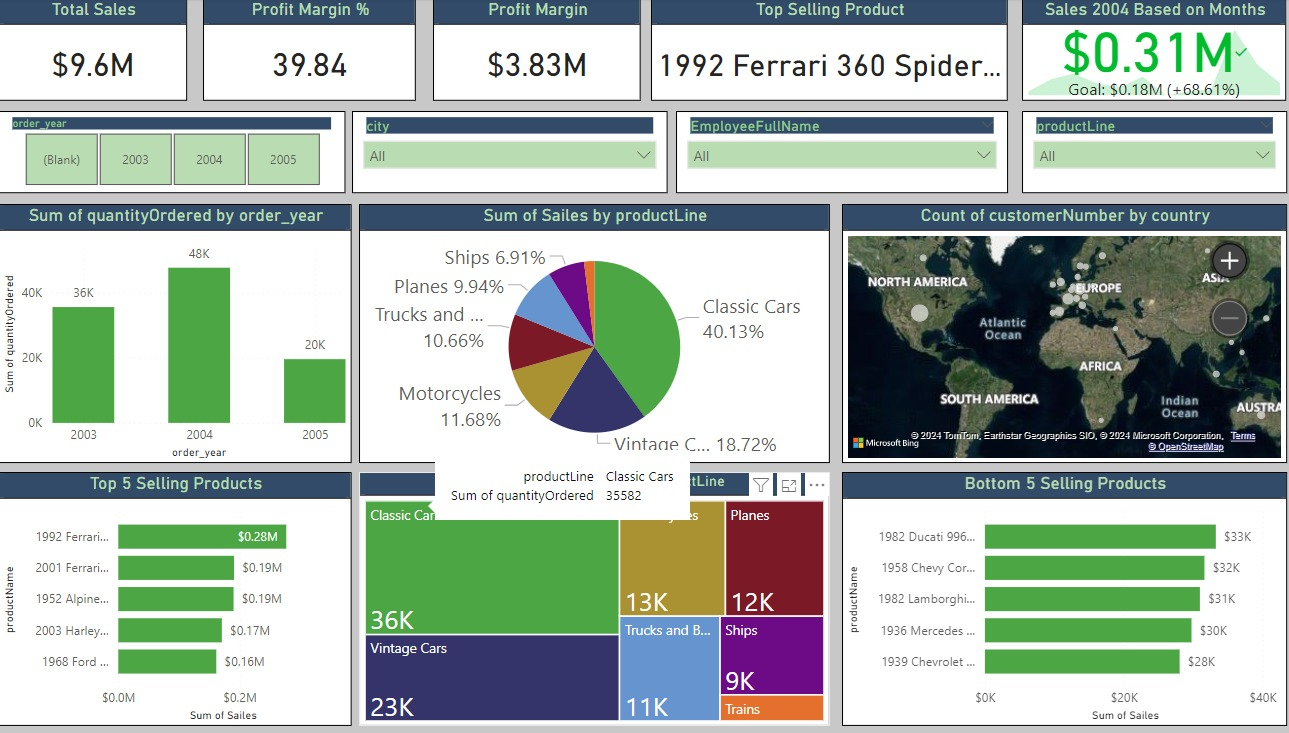

What the dashboard file says about the page in this screenshot:
{"tool":"powerbi","page":{"name":"Page 1","canvas":[1280,720],"ordinal":0},"visuals":[{"type":"card","title":"Profit Margin","fields":{"Values":["Customer.total_profit"]},"box":[420.2,1,190.6,99.2],"z":0},{"type":"card","title":"Top Selling Product","fields":{"Values":["Order_details.MostOrderedProducts"]},"box":[454.2,260.7,347.2,99.2],"z":1000},{"type":"barChart","title":"Top 5 Selling Products","fields":{"Y":["Order_details.Sailes"],"Category":["Products.productName"]},"box":[14.6,461,344.3,247.1],"z":2000},{"type":"pieChart","fields":{"Category":["Products.productLine"],"Y":["Order_details.Sailes"]},"box":[365.7,200.4,458.1,251.9],"z":3000},{"type":"slicer","fields":{"Values":["Orders.order_year"]},"box":[14.6,109.9,199.4,79.8],"z":4000},{"type":"kpi","title":"Sales 2004 Based on Months","fields":{"Indicator":["Orders.sales_2004"],"Goal":["Orders.sales_2003"],"TrendLine":["Orders.Month Name"]},"box":[1010.8,0,257.2,99.7],"z":5000},{"type":"map","fields":{"Category":["Customer.country"],"Size":["Customer.customerNumber"]},"box":[835.5,200.4,432.8,251.9],"z":6000},{"type":"treemap","fields":{"Group":["Product_line.productLine"],"Values":["Order_details.quantityOrdered"]},"box":[365.7,461,458.1,247.1],"z":7000},{"type":"clusteredColumnChart","fields":{"Category":["Orders.order_year"],"Y":["Order_details.quantityOrdered"]},"box":[14.6,200.4,344.3,251.9],"z":8000},{"type":"card","title":"Profit Margin %","fields":{"Values":["classic_models_dataset.profit_margin_%"]},"box":[206.2,1,208.1,99.2],"z":9000},{"type":"card","title":"Total Sales","fields":{"Values":["Order_details.Sailes"]},"box":[15,0,184.4,99.7],"z":10000},{"type":"slicer","fields":{"Values":["Office.city"]},"box":[220.8,109.9,193.6,79.8],"z":11000},{"type":"slicer","fields":{"Values":["Employee.EmployeeFullName"]},"box":[420.2,109.9,190.6,79.8],"z":12000},{"type":"slicer","fields":{"Values":["Product_line.productLine"]},"box":[1010.6,109.9,257.8,79.8],"z":13000},{"type":"barChart","title":"Bottom 5 Selling Products","fields":{"Y":["Order_details.Sailes"],"Category":["Products.productName"]},"box":[835.5,461,432.8,247.1],"z":14000},{"type":"qnaVisual","title":"Ask a question about your data","box":[620.5,1,386.1,188.7],"z":15000}]}

Visuals, with their boxes in screenshot pixels (x1, y1, x2, y2), scaled from the page's 1280x720 canvas onto the 1289x733 screenshot:
"Profit Margin" card: [x1=423, y1=1, x2=615, y2=102]
"Top Selling Product" card: [x1=457, y1=265, x2=807, y2=366]
"Top 5 Selling Products" barChart: [x1=15, y1=469, x2=361, y2=721]
pieChart - Products.productLine x Order_details.Sailes: [x1=368, y1=204, x2=830, y2=460]
slicer - Orders.order_year: [x1=15, y1=112, x2=216, y2=193]
"Sales 2004 Based on Months" kpi: [x1=1018, y1=0, x2=1277, y2=102]
map - Customer.country x Customer.customerNumber: [x1=841, y1=204, x2=1277, y2=460]
treemap - Product_line.productLine x Order_details.quantityOrdered: [x1=368, y1=469, x2=830, y2=721]
clusteredColumnChart - Orders.order_year x Order_details.quantityOrdered: [x1=15, y1=204, x2=361, y2=460]
"Profit Margin %" card: [x1=208, y1=1, x2=417, y2=102]
"Total Sales" card: [x1=15, y1=0, x2=201, y2=102]
slicer - Office.city: [x1=222, y1=112, x2=417, y2=193]
slicer - Employee.EmployeeFullName: [x1=423, y1=112, x2=615, y2=193]
slicer - Product_line.productLine: [x1=1018, y1=112, x2=1277, y2=193]
"Bottom 5 Selling Products" barChart: [x1=841, y1=469, x2=1277, y2=721]
"Ask a question about your data" qnaVisual: [x1=625, y1=1, x2=1014, y2=193]
